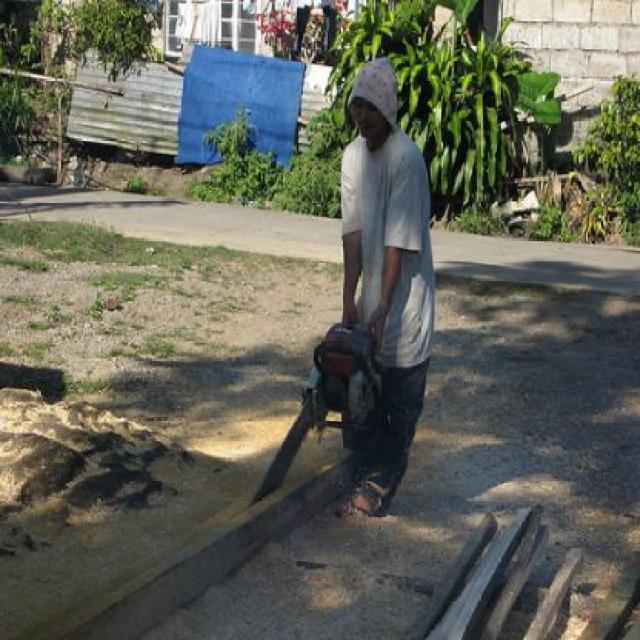Chainsaw: (244, 309, 384, 509)
